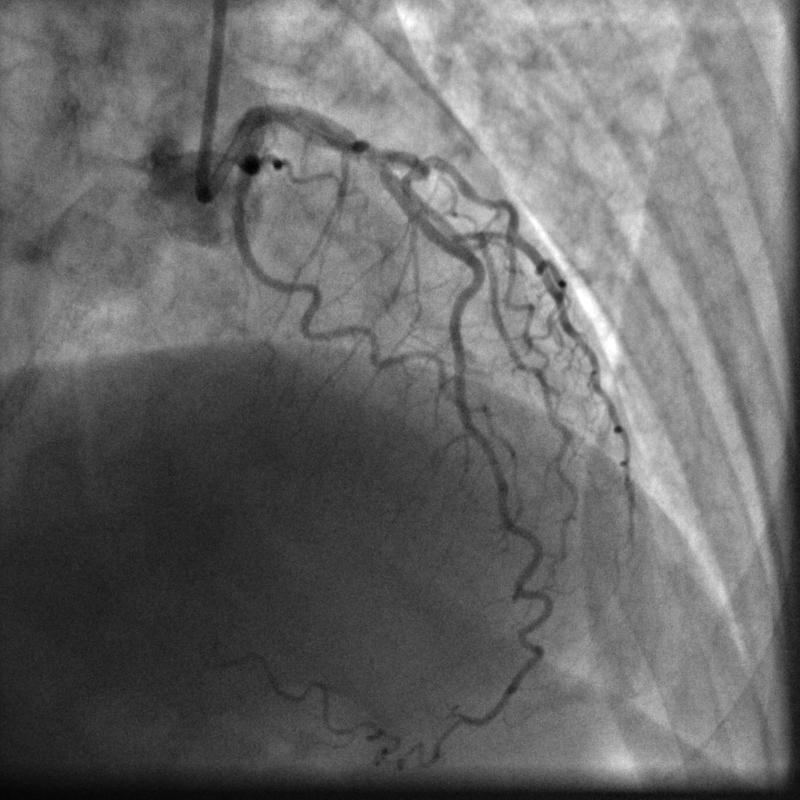Stenosis: (358, 138, 378, 170)
